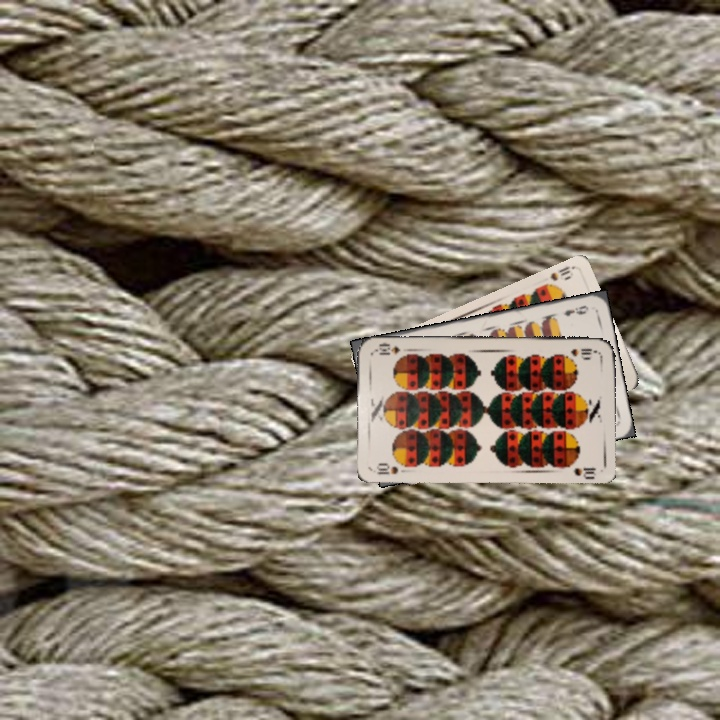E9: (560, 301, 591, 319)
S10: (539, 262, 576, 291), (373, 459, 411, 477), (567, 345, 599, 358)
